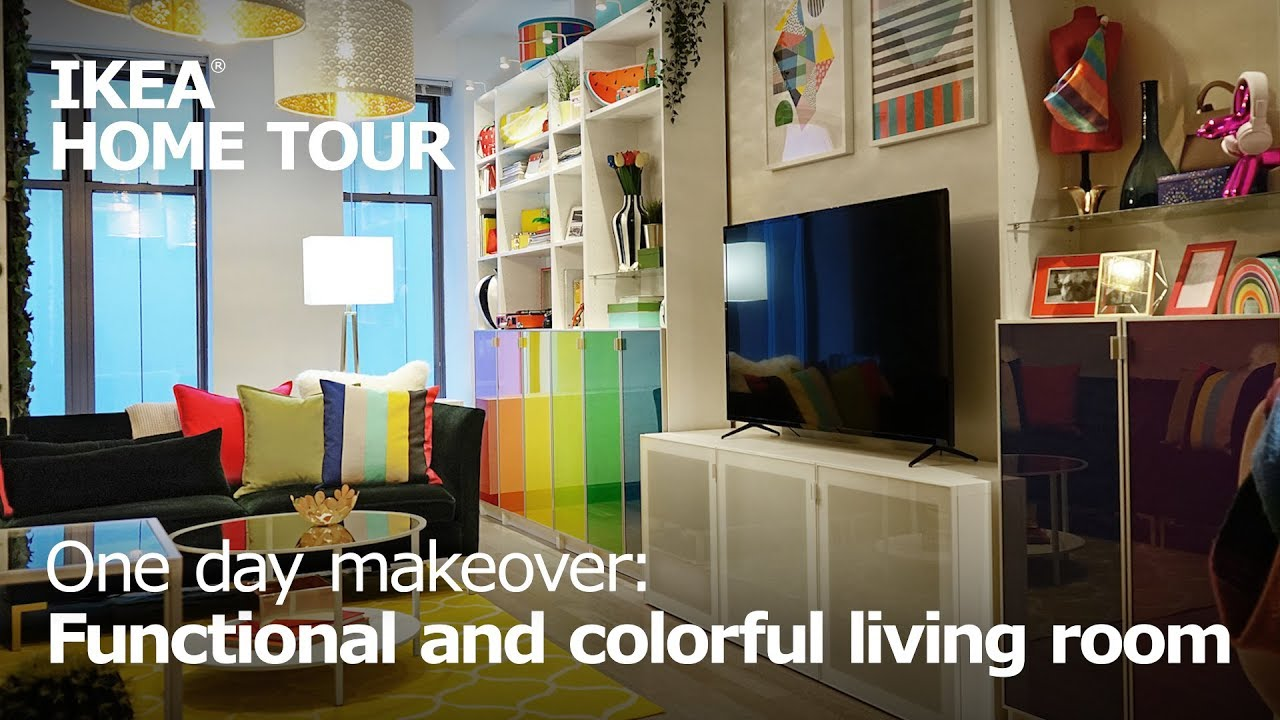biru: (622, 331, 641, 551)
hijau: (525, 333, 581, 537), (584, 330, 622, 550), (240, 387, 323, 480)
hitam: (996, 317, 1280, 720), (723, 188, 954, 435), (6, 430, 222, 496)
orange: (497, 332, 523, 511), (589, 70, 651, 97)
putih: (643, 431, 985, 697), (302, 235, 397, 306)
